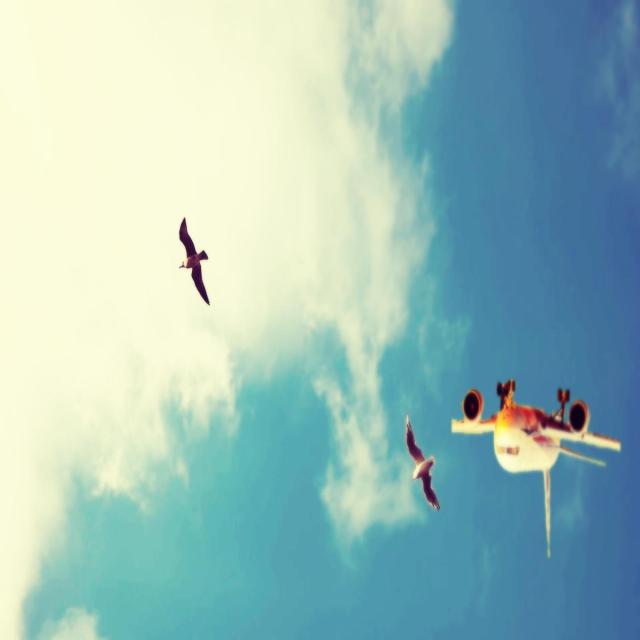airplane: (451, 378, 621, 558)
